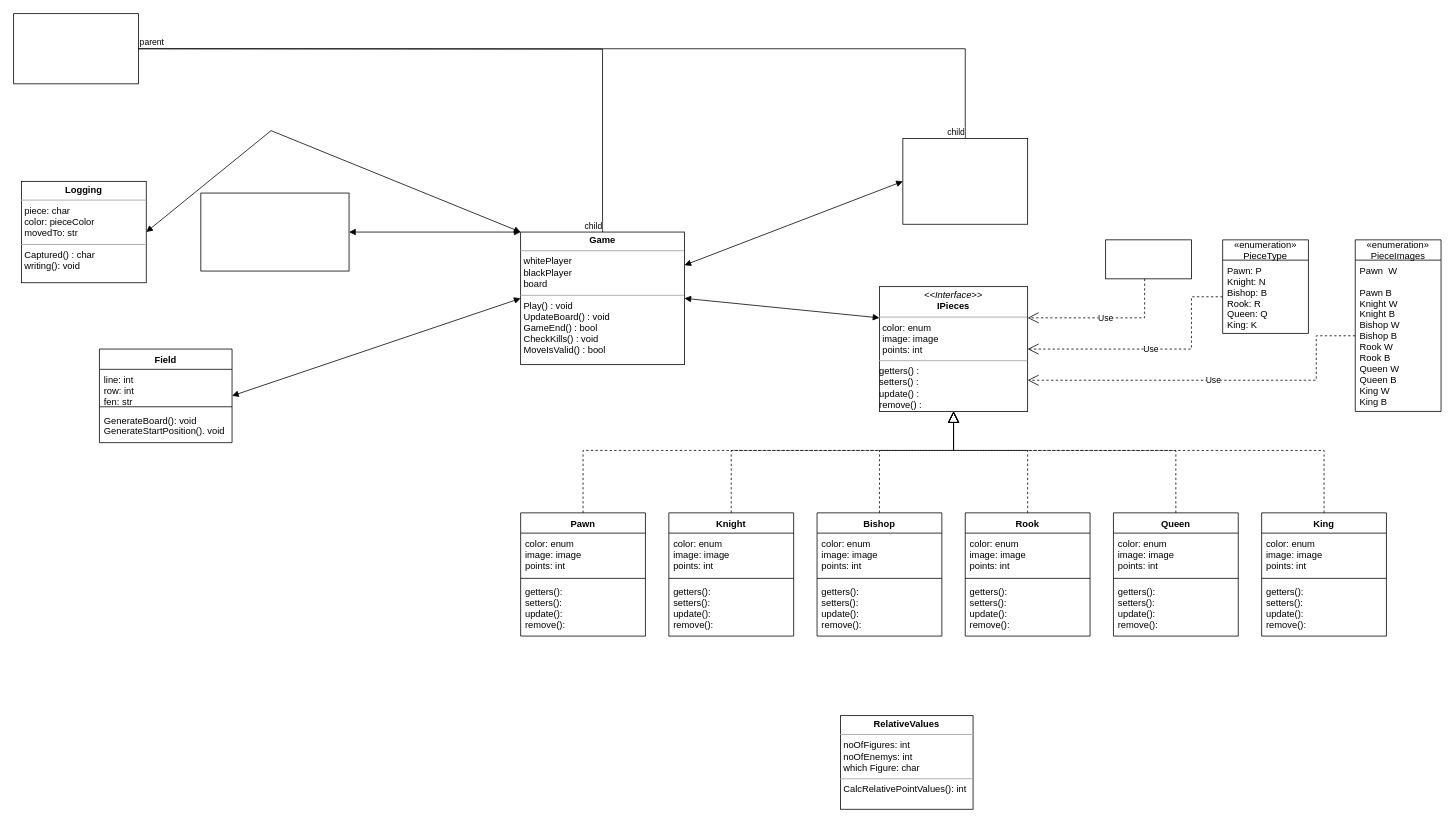
The diagram is 1455 pixels wide and 823 high, and some of its shapes have lost their labels. The shapes that lost their labels are listed below. From the top down, each one's centre as x and y in pixels, then its label:
At point (75, 48): "User name: str pieces: Collection <pieces> PlayTurn(): void".
At point (965, 181): "Move pieces: char previousLoc: futureLoc: IsValidMove() : bool".
At point (274, 231): "<<Dictionary>> Locations piece: char currentPos: str possiblePos: str".
At point (1148, 259): "«enumeration» PieceColor".
